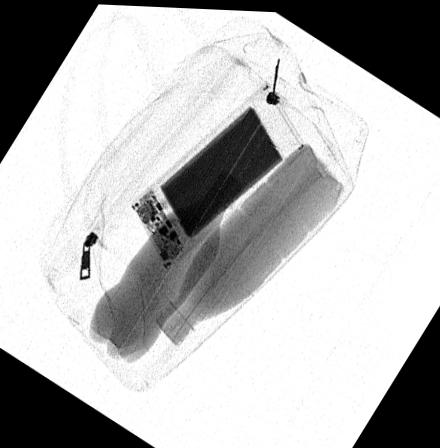Powerbank: (128, 79, 305, 269)
